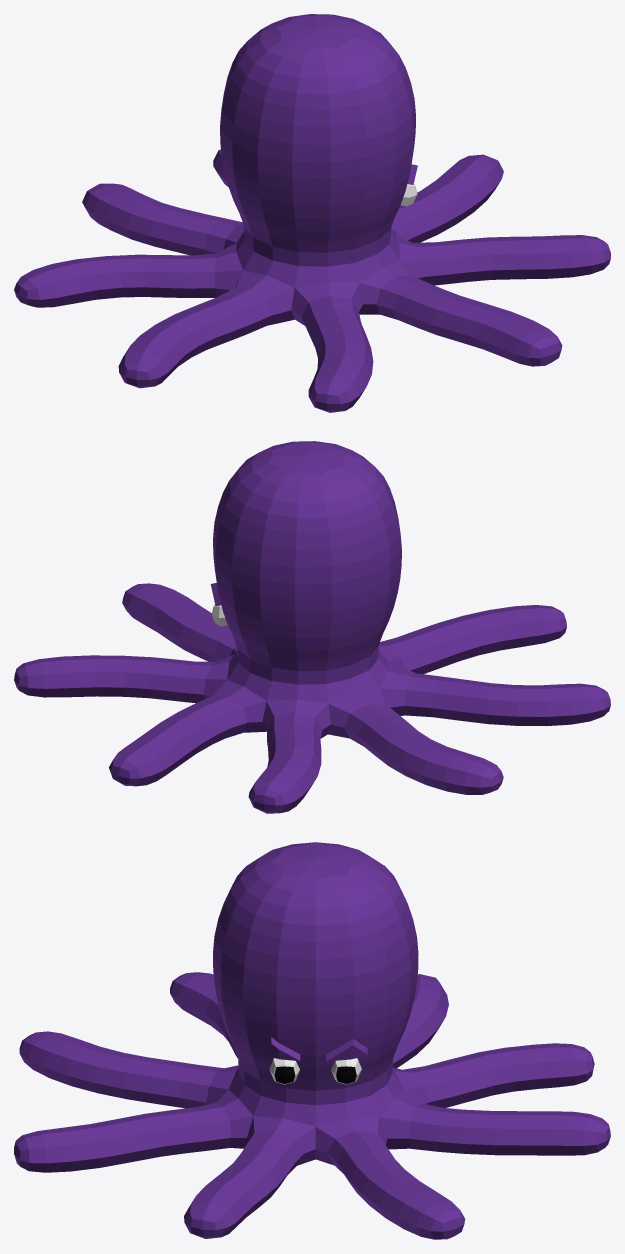
Rendered from octopus2.fbx.
The picture shows the model from 3 angles, top to bottom: view 1: azimuth 30°, elevation 25°; view 2: azimuth 150°, elevation 25°; view 3: azimuth 270°, elevation 25°; orthographic projection. The views are drawn at different scales.
Visible parts, largest first — view 1: Body, Head; view 2: Body, Head; view 3: Body, Head.
Part boxes in pixels (box(x1,y1,x2,y2)): Body: box(14, 149, 610, 412); Head: box(220, 14, 417, 266); Body: box(14, 583, 610, 813); Head: box(210, 441, 401, 684); Body: box(14, 972, 610, 1239); Head: box(213, 842, 418, 1105).
Size of the model in its own units: 902 by 453 by 904.
